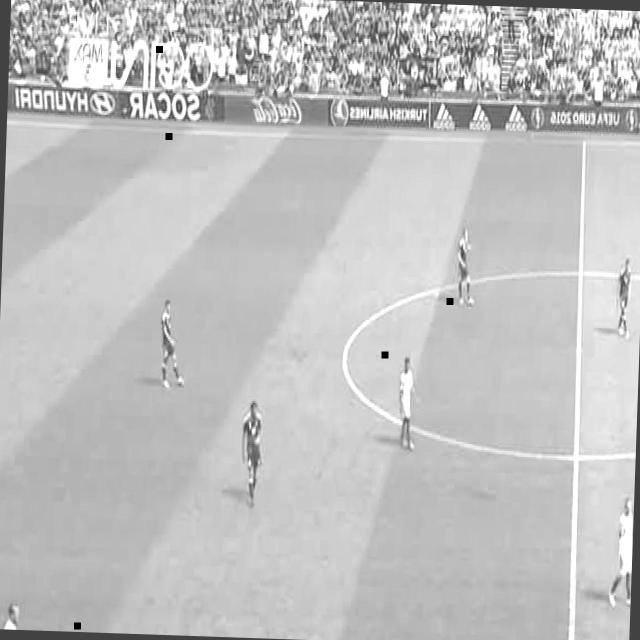player-white: (607, 497, 634, 609), (158, 295, 188, 389), (239, 401, 265, 507), (395, 356, 419, 452), (455, 229, 477, 306), (615, 257, 632, 339), (2, 601, 46, 631)
